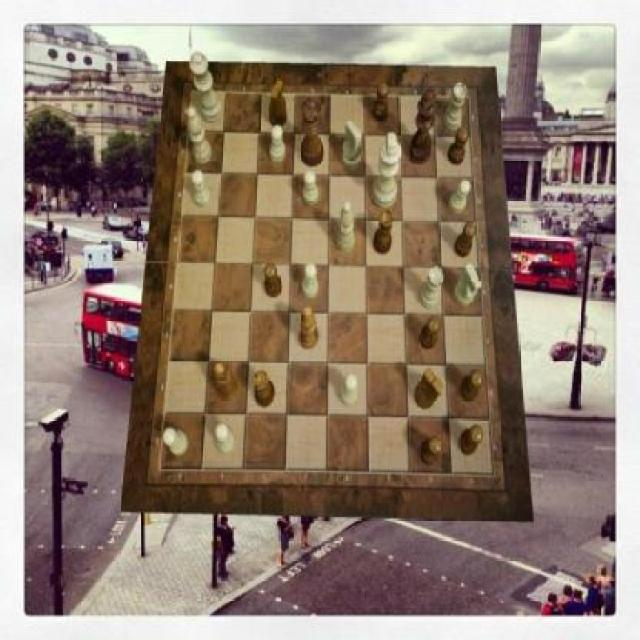bishop: (214, 363, 238, 402), (300, 306, 320, 350)
black-bishop: (411, 86, 438, 164)
black-king: (414, 368, 444, 409), (270, 80, 288, 129)
black-knight: (460, 424, 485, 456), (454, 222, 476, 258), (460, 369, 483, 403), (418, 317, 441, 351), (448, 126, 468, 164), (420, 437, 443, 465), (372, 83, 388, 122), (265, 263, 282, 298)
black-pawn: (300, 97, 324, 166)
black-queen: (374, 209, 394, 255), (252, 369, 275, 407)
black-rook: (188, 106, 212, 164), (337, 201, 355, 254)
white-bishop: (372, 132, 402, 208)
white-king: (454, 263, 481, 305), (343, 120, 363, 171)
white-knight: (448, 178, 470, 212), (192, 171, 212, 208), (163, 429, 188, 457), (216, 423, 236, 455), (340, 374, 358, 408), (303, 263, 320, 299), (270, 125, 286, 162), (303, 170, 320, 204)
white-pawn: (189, 52, 223, 123)
white-queen: (443, 83, 467, 131), (420, 266, 445, 309)
